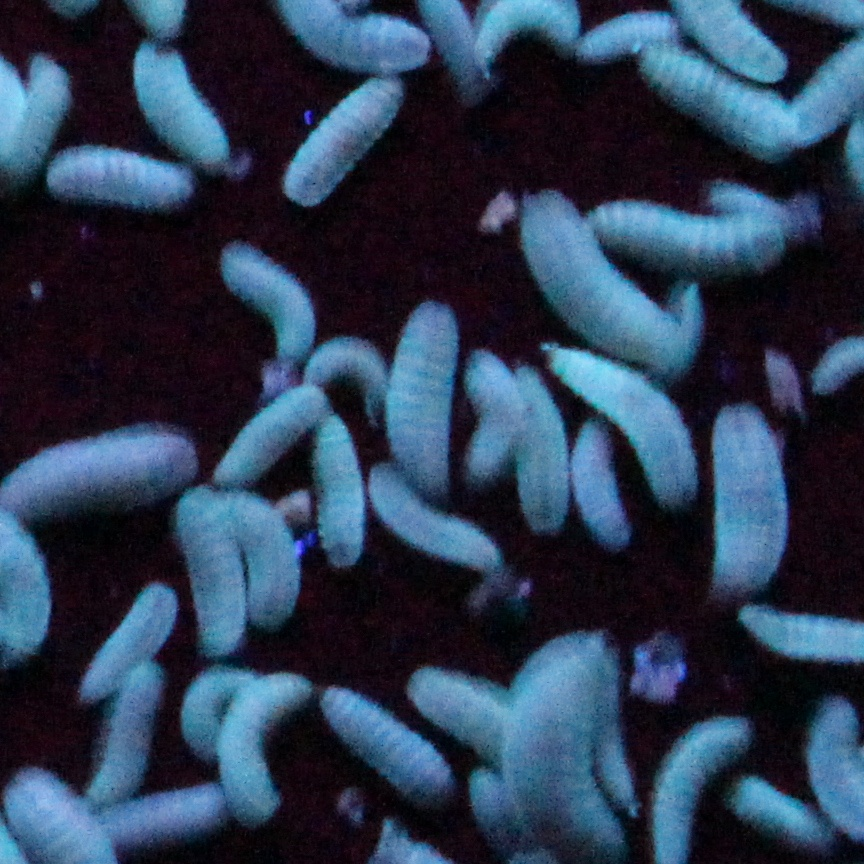larve: (508, 184, 715, 368), (535, 326, 709, 508), (515, 597, 621, 864), (563, 175, 789, 276), (694, 401, 804, 601), (206, 652, 317, 832), (317, 670, 460, 803), (203, 367, 335, 499), (214, 476, 314, 647), (280, 78, 406, 203), (162, 485, 265, 631), (389, 303, 462, 498), (34, 131, 201, 212), (78, 573, 178, 708), (132, 44, 234, 175), (450, 340, 532, 499), (557, 408, 645, 550), (212, 247, 317, 363), (306, 412, 373, 578)
